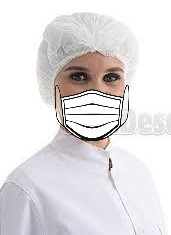with_mask_and_cap: (45, 14, 130, 142)
